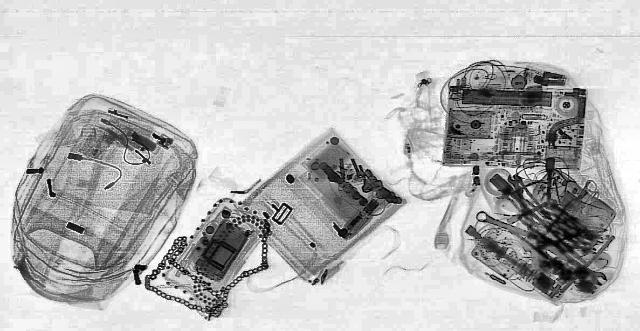Wrench: (546, 247, 614, 286), (504, 172, 534, 214)
